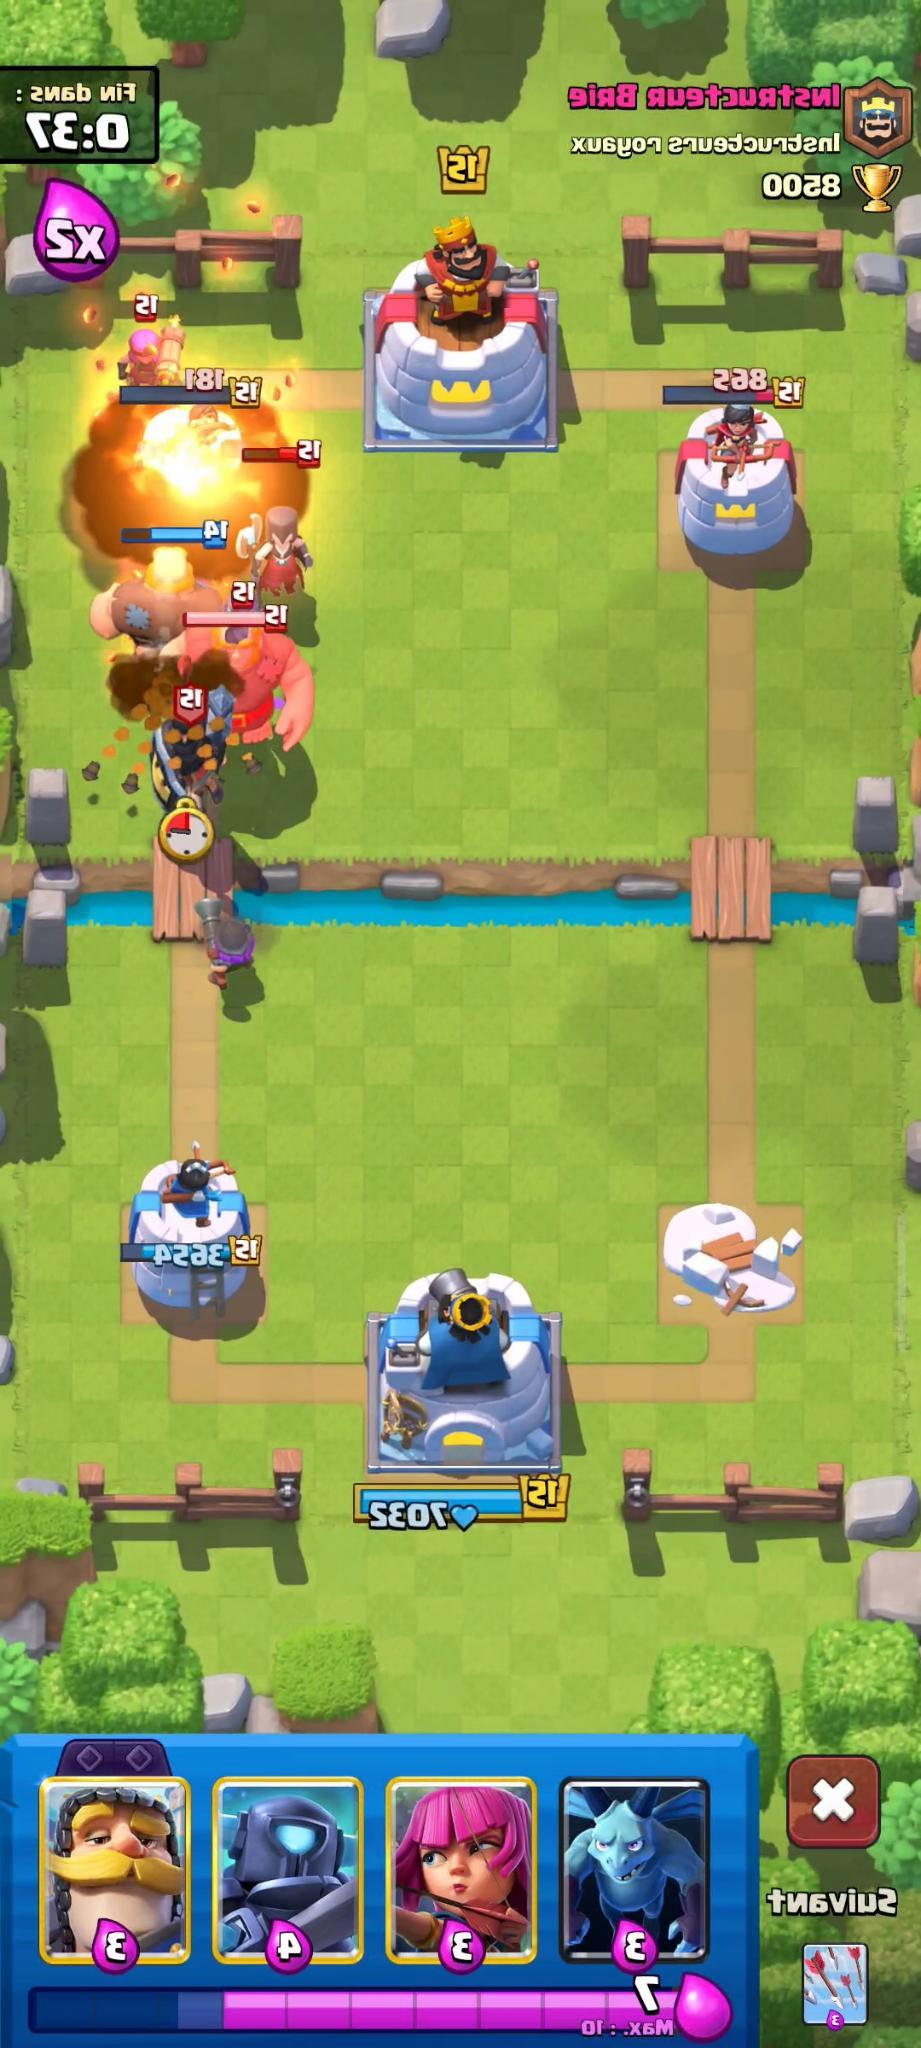enemy_dark_prince: (125, 686, 238, 821)
enemy_gaint: (153, 602, 326, 760)
enemy_night_witch: (234, 418, 329, 603)
player_firecraker: (187, 880, 269, 992)
player_giant: (83, 542, 195, 658)
